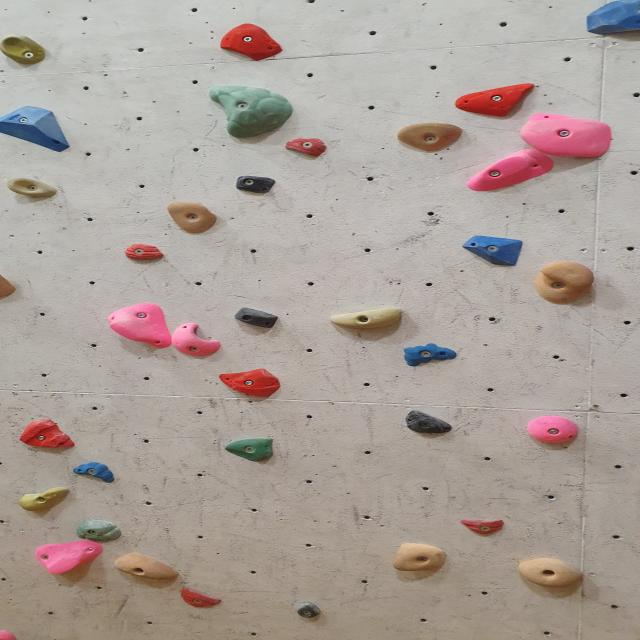Crimp: (451, 81, 540, 118), (217, 23, 286, 63), (18, 418, 78, 454), (219, 368, 283, 400), (584, 0, 640, 33), (76, 520, 125, 543), (402, 346, 460, 365), (233, 308, 281, 328), (181, 587, 222, 610), (74, 462, 118, 482), (122, 243, 168, 262), (283, 138, 329, 156), (458, 520, 506, 535)
Jug: (517, 116, 614, 160), (533, 263, 597, 307), (518, 554, 584, 589), (394, 123, 467, 153), (165, 202, 222, 236), (170, 324, 224, 359), (392, 544, 451, 574), (0, 34, 48, 66), (5, 176, 62, 200)
Pinch: (112, 552, 182, 582), (525, 416, 581, 444), (17, 486, 72, 514), (328, 308, 404, 327), (405, 409, 452, 436), (238, 173, 274, 194), (296, 601, 322, 619)
Sloper: (203, 83, 303, 139), (463, 151, 557, 195), (0, 103, 76, 154), (110, 303, 171, 349), (34, 540, 106, 576), (462, 236, 527, 266), (226, 436, 276, 462)
